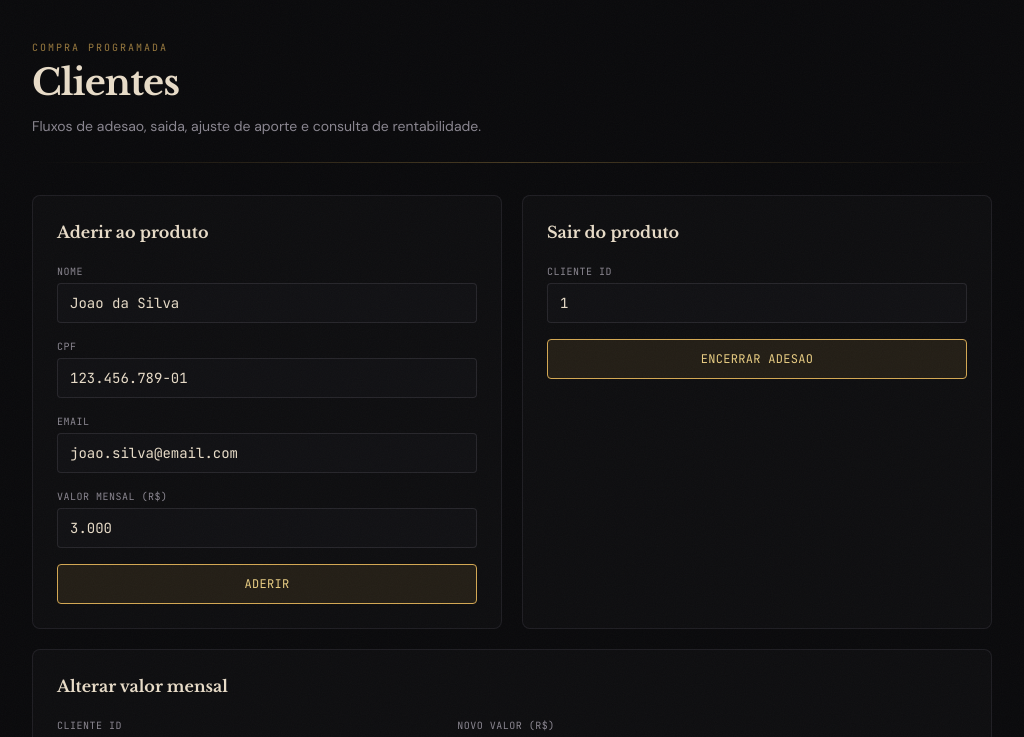
ClientesPage › applies CPF mask in input field
Replace the text in the field showing "123.456.789-01" below "CPF" with "98765432100" at (267, 378), box [57,358,477,398]
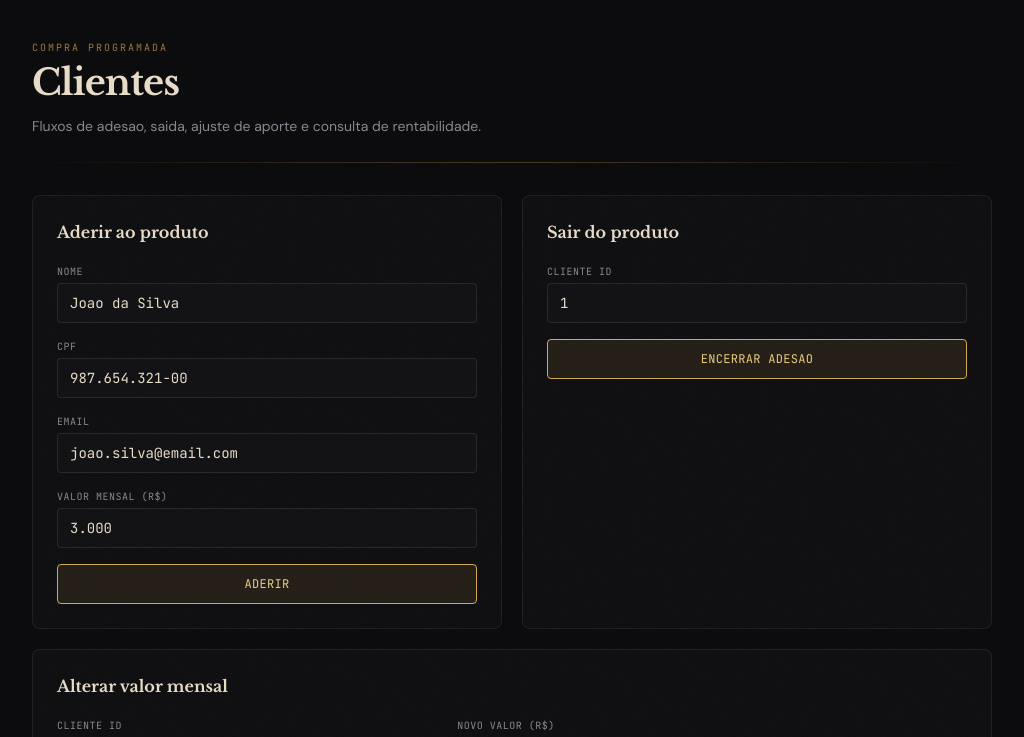
Check: the field showing "987.654.321-00" below "CPF" is shown, box [57,358,477,398]
